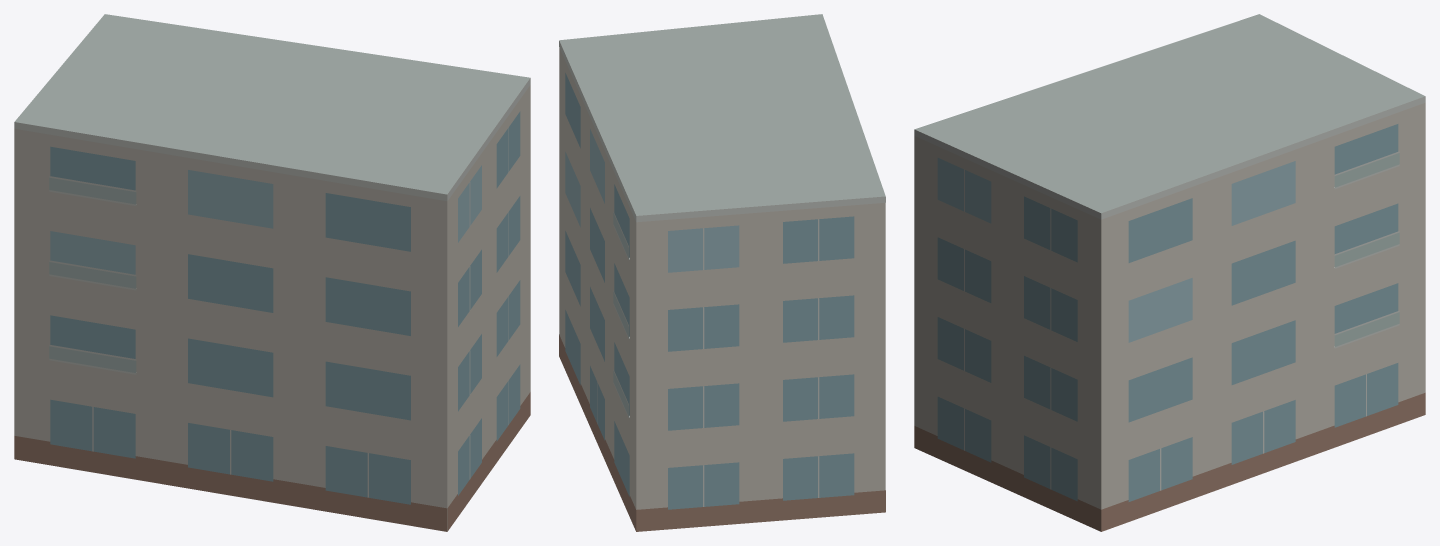
Rendered from survey-upis-33014203.glb.
The picture shows the model from 3 angles, left to right: view 1: azimuth 30°, elevation 25°; view 2: azimuth 150°, elevation 25°; view 3: azimuth 270°, elevation 25°; orthographic projection. The views are drawn at different scales.
Visible parts, largest first — view 1: survey-upis-33014203.tmp; view 2: survey-upis-33014203.tmp; view 3: survey-upis-33014203.tmp.
Boxes of the visible parts, <box> form: survey-upis-33014203.tmp: <box>14,14,530,531</box>; survey-upis-33014203.tmp: <box>559,14,885,531</box>; survey-upis-33014203.tmp: <box>914,14,1425,531</box>.
Bounding box in the file's own units: 16.38 × 12.2 × 17.75.
